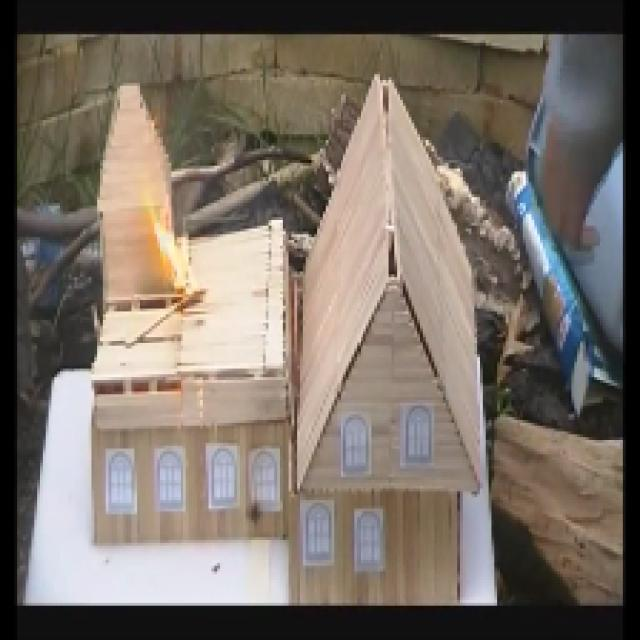Fire: (148, 202, 200, 308)
